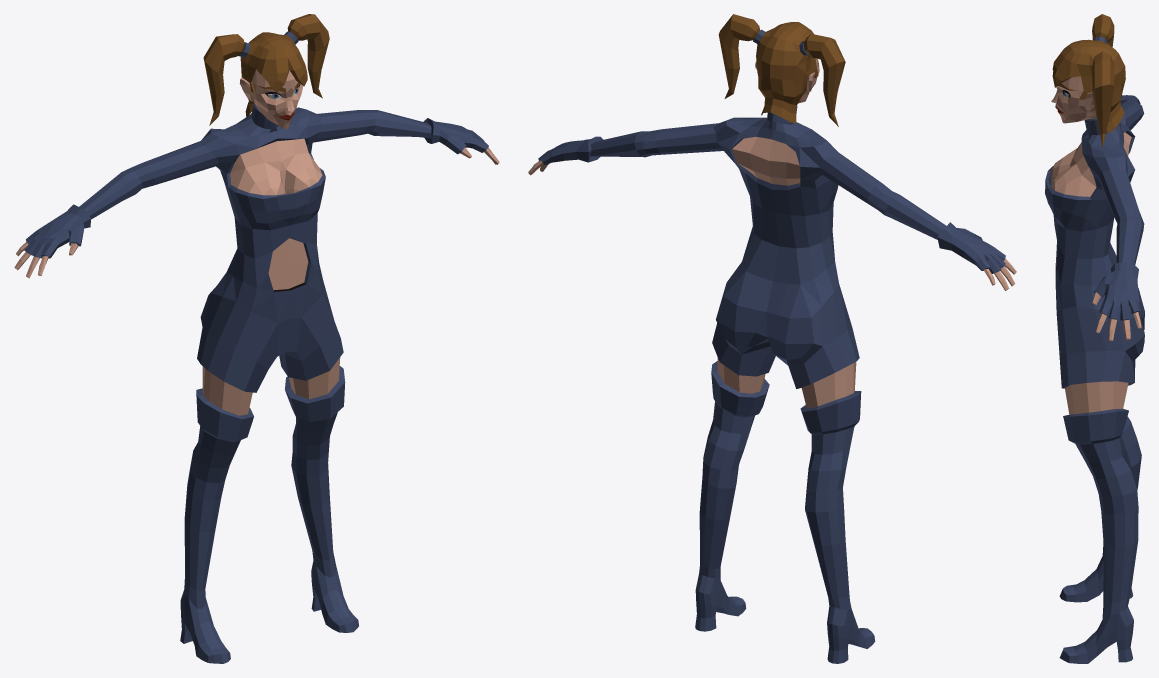
The model's file is Future_F_2.fbx.
3 renders of one model, left to right at view 1: azimuth 30°, elevation 25°; view 2: azimuth 150°, elevation 25°; view 3: azimuth 270°, elevation 25°, orthographic. The views are drawn at different scales.
Parts seen in each view (by area): view 1: Future_F_2; view 2: Future_F_2; view 3: Future_F_2.
Boxes of the visible parts, left/top/right/bottom form: Future_F_2: left=14, top=14, right=499, bottom=663; Future_F_2: left=528, top=14, right=1016, bottom=663; Future_F_2: left=1045, top=14, right=1144, bottom=663.
Size of the model in its own units: 149 by 181 by 27.71.
Materials: 1 (1 with a texture image).
